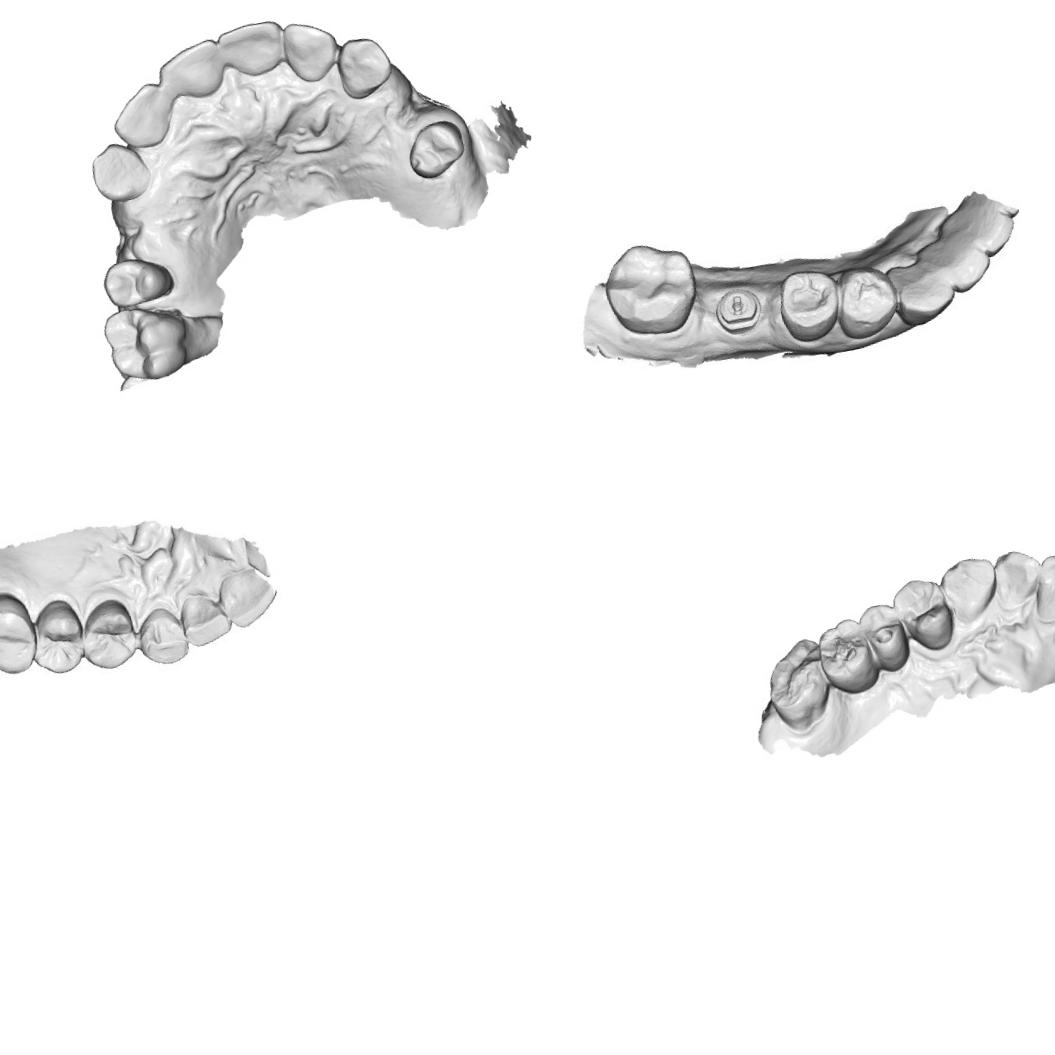canine: (84, 136, 156, 208), (936, 551, 1003, 628), (887, 255, 958, 323), (331, 30, 398, 102), (132, 602, 194, 671)
implant_minus: (706, 272, 771, 346)
incisor: (942, 187, 1025, 257), (105, 78, 176, 154), (153, 36, 228, 104), (213, 15, 288, 82), (277, 13, 344, 87), (916, 230, 990, 296), (217, 565, 284, 633), (988, 544, 1049, 613), (177, 584, 234, 651), (1023, 545, 1055, 627)
molar: (593, 230, 699, 336), (98, 296, 192, 389), (757, 634, 836, 736), (811, 614, 881, 700), (0, 585, 42, 683)
premolar: (888, 572, 958, 657), (24, 590, 88, 682), (775, 262, 846, 339), (75, 596, 142, 676), (96, 250, 178, 314), (400, 114, 471, 184), (834, 260, 897, 336), (855, 598, 915, 677)
